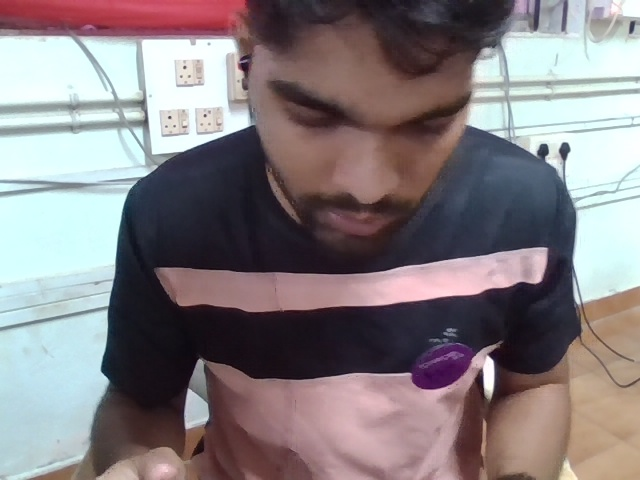All done: (83, 439, 551, 480)
